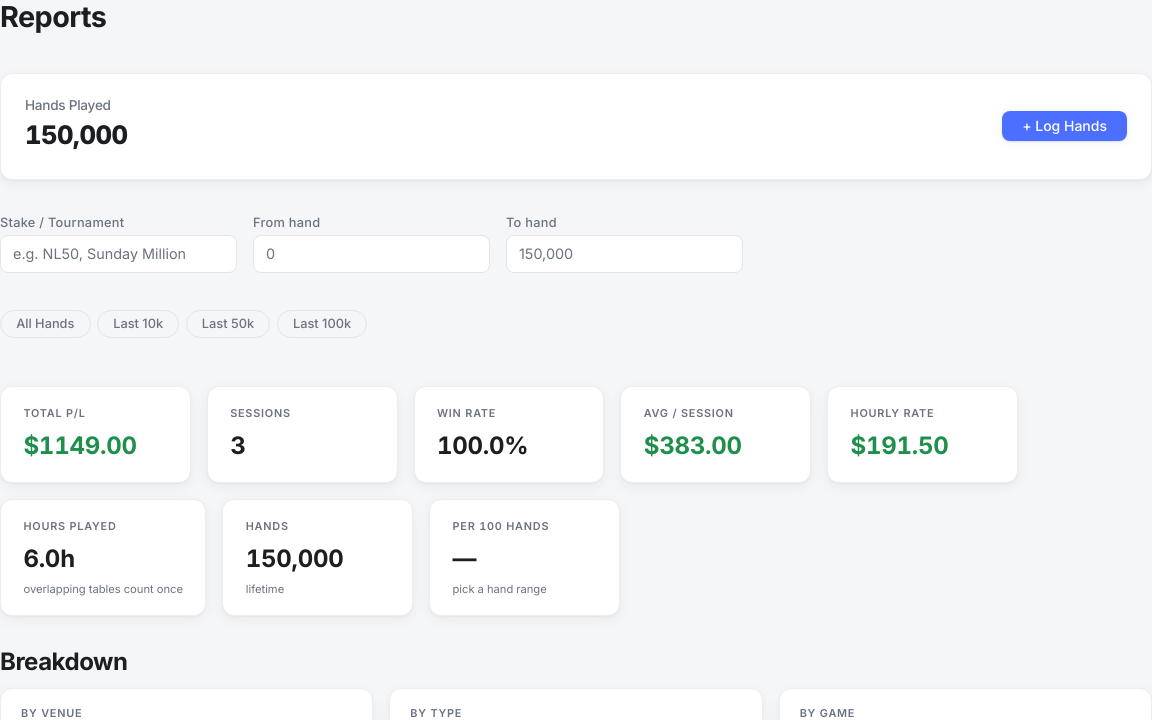
it: Reports by hand range › applies the all-hands preset up to the last checkpoint
Click the button "All Hands": (45, 324) [0,310,91,338]
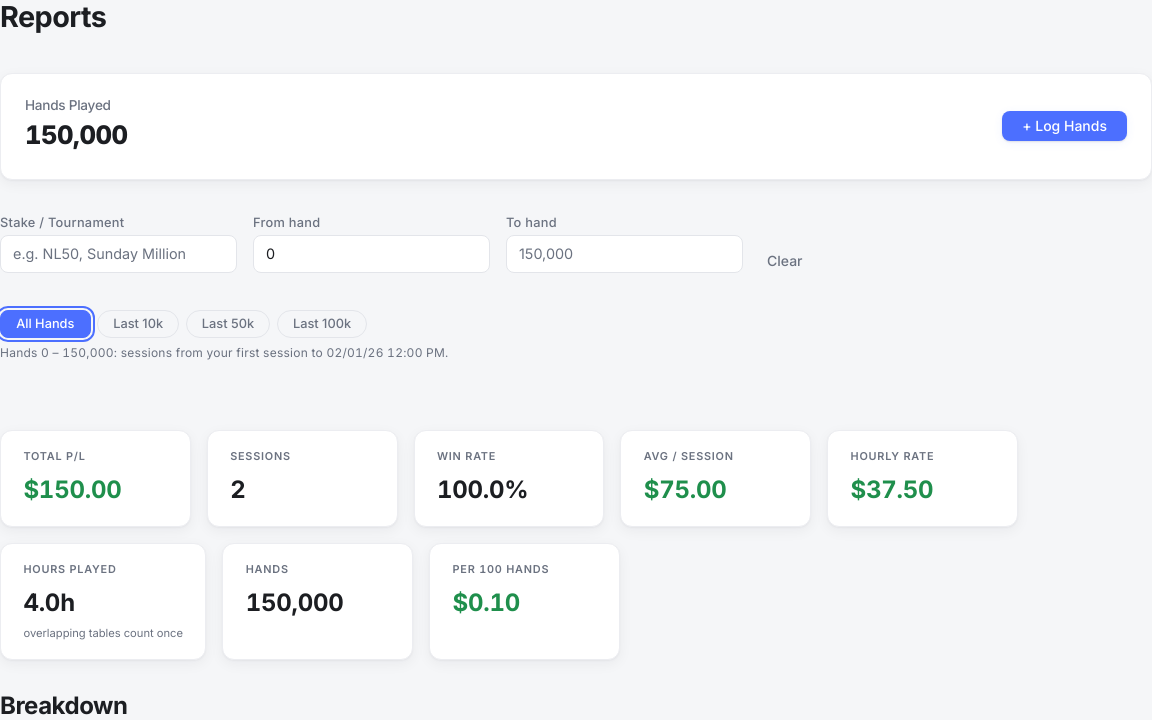
Expected: the text "2" is shown, [230,475,246,504]
Expected: the text "$0.10" is shown, [452,588,520,617]
